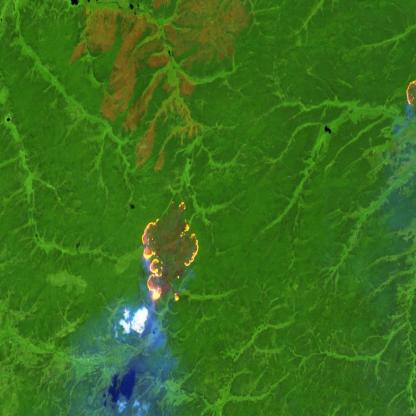fire: (141, 197, 201, 306), (399, 72, 416, 110)
